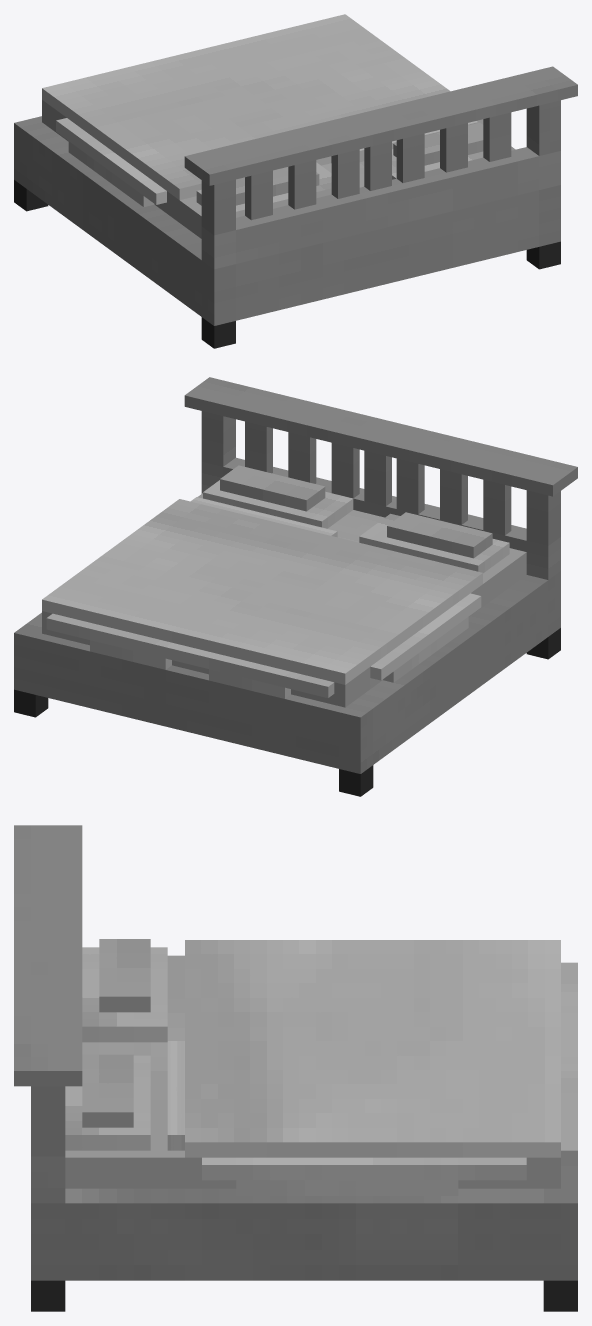
The model's file is double_bed.gltf.
3 views of the same model, one above another, from view 1: azimuth 30°, elevation 25°; view 2: azimuth 150°, elevation 25°; view 3: azimuth 270°, elevation 25° (orthographic). The views are drawn at different scales.
Visible parts, largest first — view 1: duvet_main, wood, base, top, slat (×7), pillar (×2), side (×2), cube (×3), matress, ur, ul, dr; view 2: duvet_main, wood, top, side (×6), cube (×4), slat (×7), matress, base, pillar (×2), dr, dl, ur; view 3: duvet_main, wood, top, side (×4), cube (×4), matress, pillar, base, ul, dl.
Boxes of the visible parts, box(x1,y1,x2,y2) form: duvet_main: box(42, 14, 482, 200); wood: box(14, 116, 560, 325); base: box(201, 147, 560, 269); top: box(184, 66, 577, 185); slat (×7): box(245, 112, 511, 220); pillar (×2): box(201, 100, 560, 235); side (×2): box(56, 118, 166, 206); cube (×3): box(196, 122, 483, 217); matress: box(42, 100, 364, 238); ur: box(201, 317, 235, 348); ul: box(526, 241, 560, 269); dr: box(14, 180, 48, 211); duvet_main: box(42, 499, 482, 684); wood: box(14, 571, 560, 773); top: box(184, 377, 577, 496); side (×6): box(46, 497, 481, 698); cube (×4): box(203, 465, 509, 573); slat (×7): box(245, 421, 511, 535); matress: box(42, 493, 526, 707); base: box(201, 457, 560, 579); pillar (×2): box(201, 411, 560, 545); dr: box(339, 765, 373, 796); dl: box(14, 689, 48, 717); ur: box(526, 628, 560, 659); duvet_main: box(185, 940, 560, 1157); wood: box(31, 1166, 577, 1280); top: box(14, 825, 82, 1086); side (×4): box(167, 962, 577, 1195); cube (×4): box(65, 939, 167, 1150); matress: box(65, 955, 560, 1188); pillar: box(31, 1086, 65, 1156); base: box(31, 1156, 65, 1203); ul: box(31, 1280, 65, 1311); dl: box(543, 1280, 577, 1311).
Bounding box in the file's own units: 2.12 × 1 × 2.06.
Materials: 9 (9 with a texture image).
